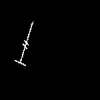treble_crochet: (15, 23, 32, 65)
